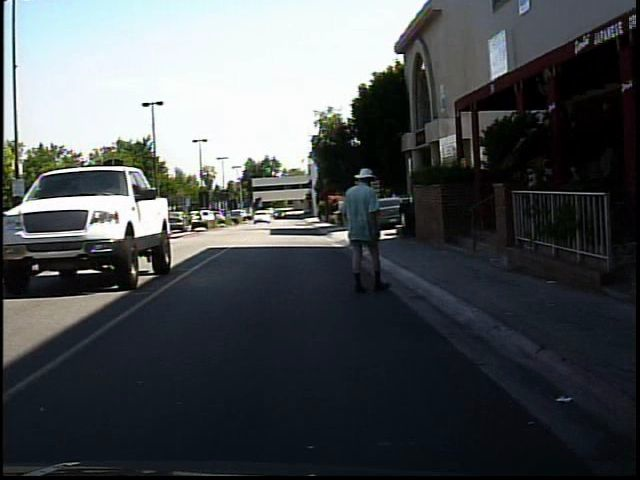person: (336, 163, 394, 298), (39, 198, 66, 266), (194, 203, 209, 228)
